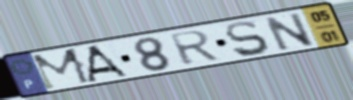8: (130, 36, 173, 73)
A: (87, 43, 132, 84)
M: (29, 46, 95, 92)
N: (261, 11, 318, 53)
R: (167, 29, 222, 67)
S: (223, 20, 272, 59)
